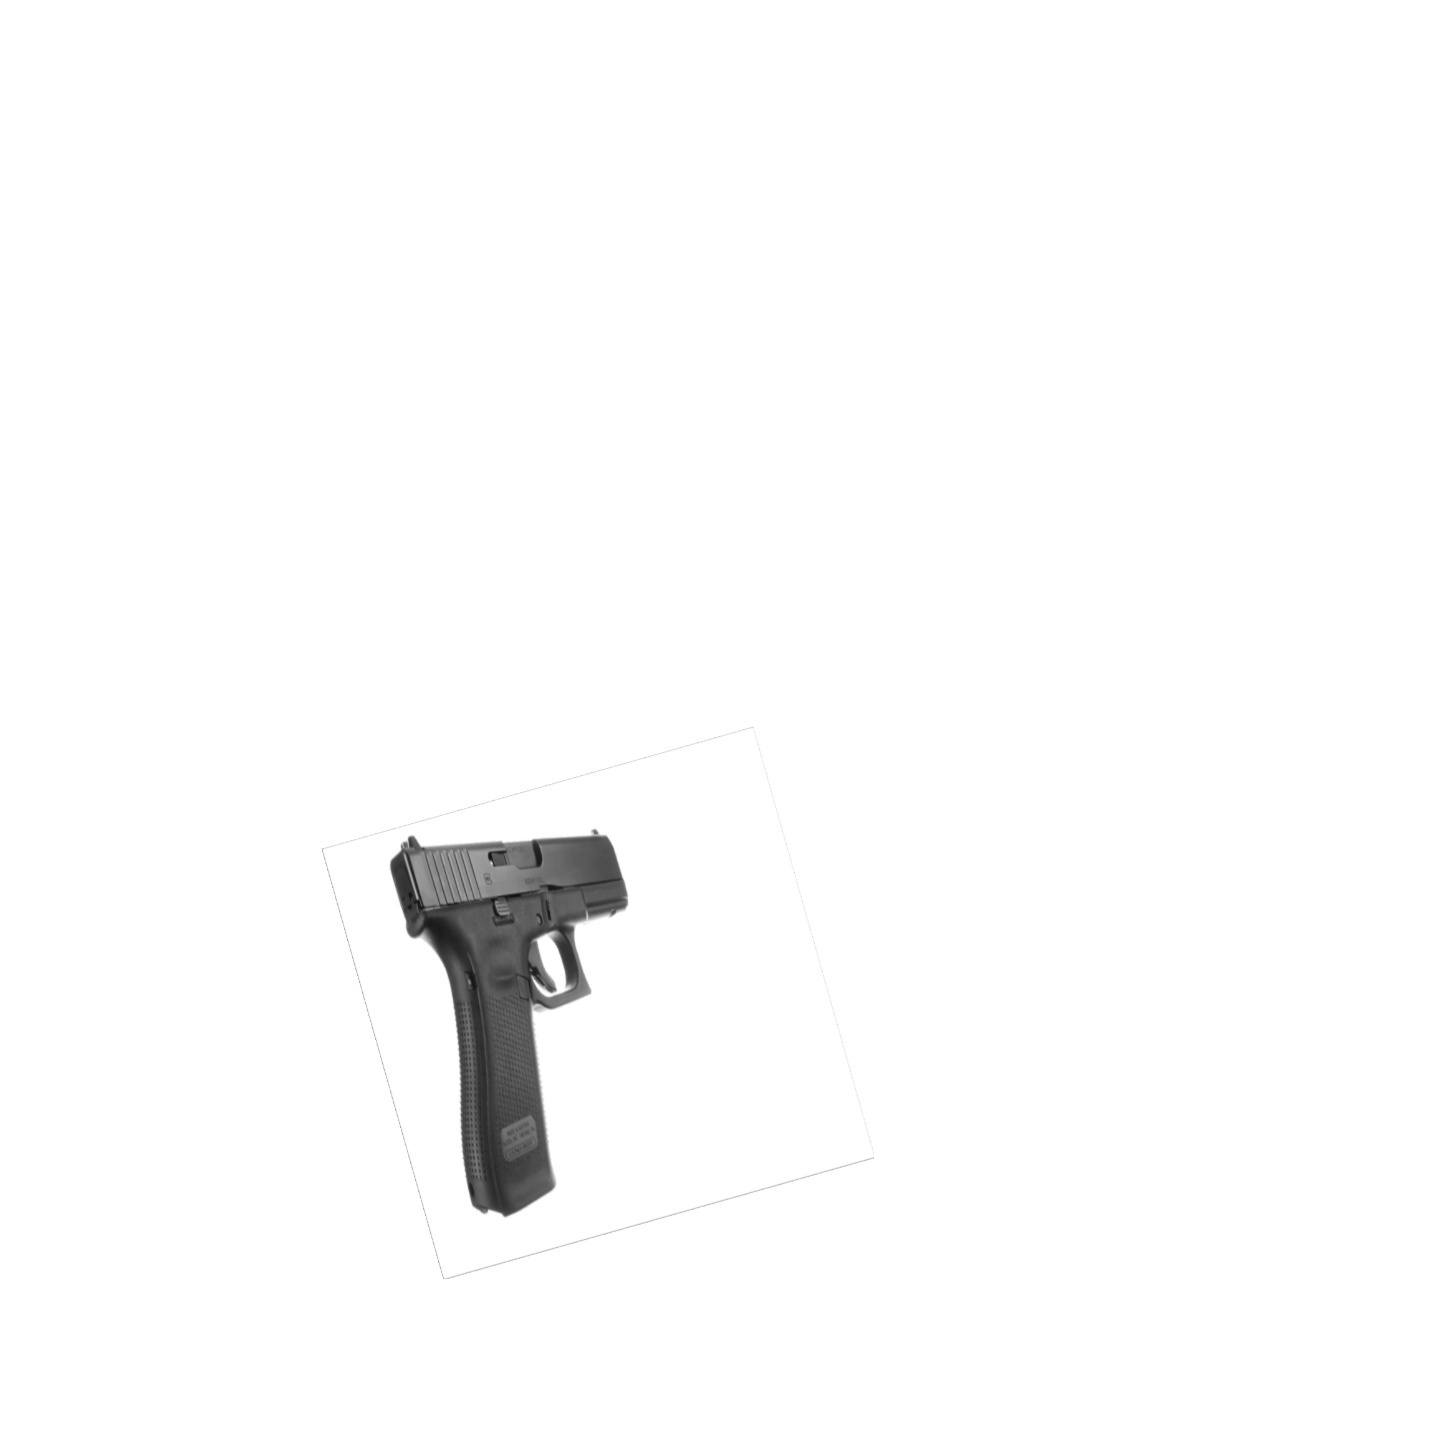gun: (388, 830, 628, 1217)
